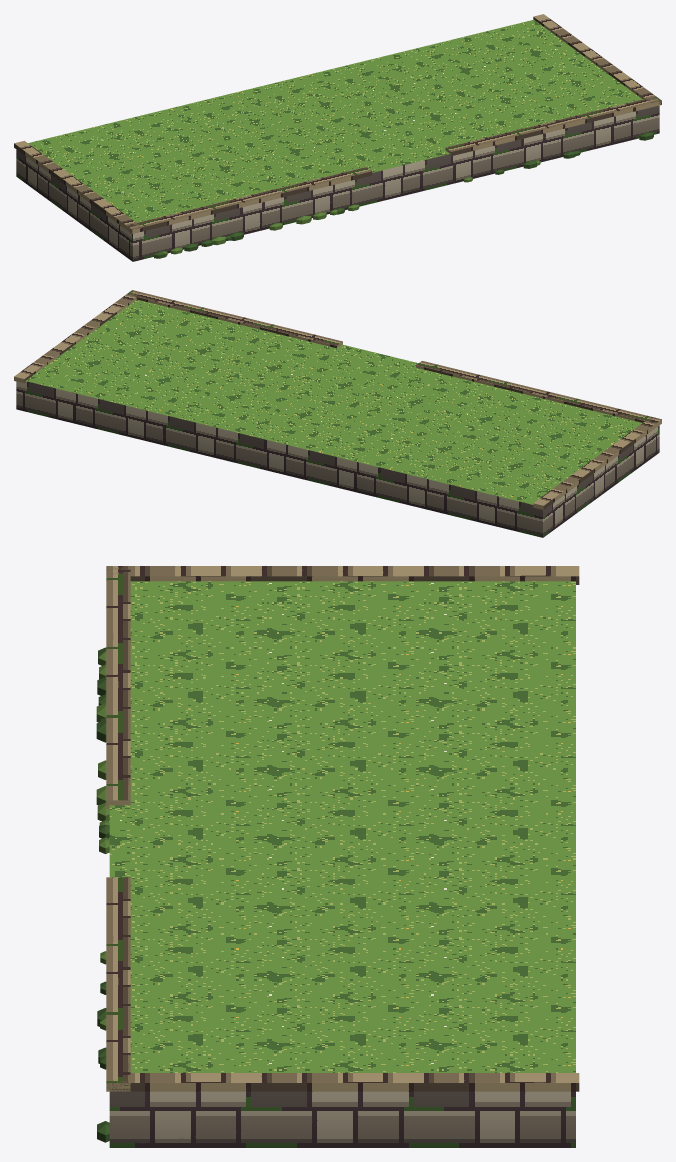
Rendered from scene_shrine_terrace.glb.
3 renders of one model, top to bottom at view 1: azimuth 30°, elevation 25°; view 2: azimuth 150°, elevation 25°; view 3: azimuth 270°, elevation 25°, orthographic. The views are drawn at different scales.
Parts seen in each view (by area): view 1: scene_shrine_terrace; view 2: scene_shrine_terrace; view 3: scene_shrine_terrace.
Part boxes in pixels (left/top/right/bottom): scene_shrine_terrace: left=14, top=14, right=661, bottom=261; scene_shrine_terrace: left=14, top=290, right=661, bottom=537; scene_shrine_terrace: left=96, top=566, right=579, bottom=1147.
Size of the model in its own units: 18.1 by 1.17 by 7.14.
Materials: 3 (2 with a texture image).
